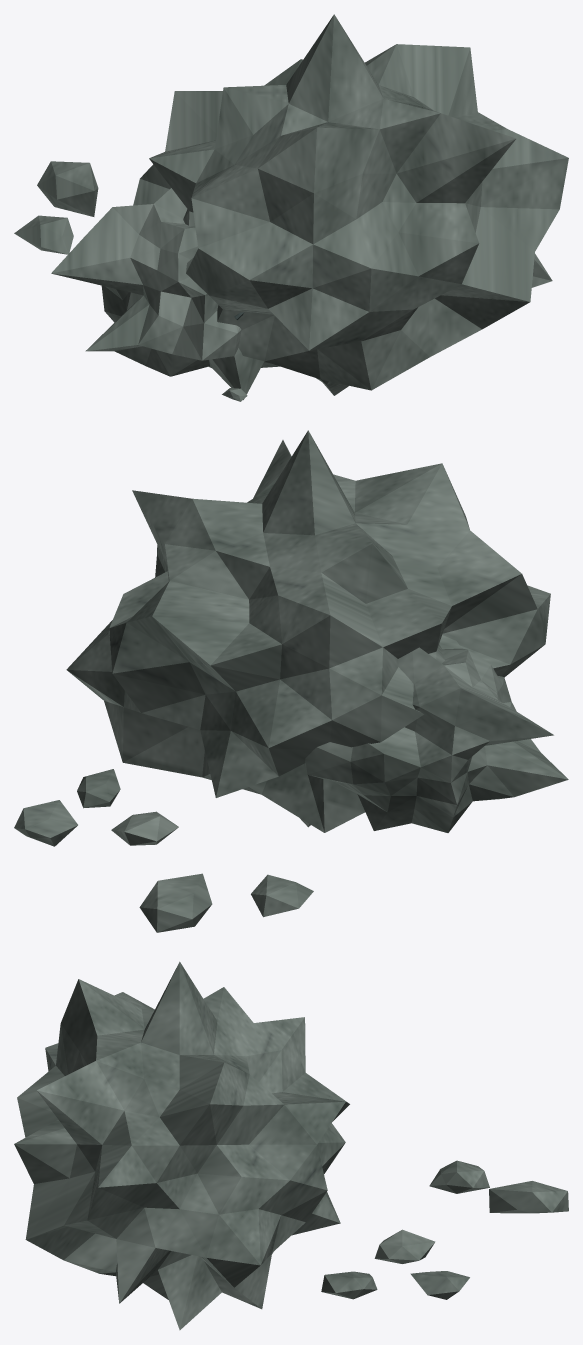
Rendered from 0009_boulder_09.glb.
3 renders of one model, top to bottom at view 1: azimuth 30°, elevation 25°; view 2: azimuth 150°, elevation 25°; view 3: azimuth 270°, elevation 25°, orthographic. The views are drawn at different scales.
Visible parts, largest first — view 1: stone; view 2: stone; view 3: stone.
Part boxes in pixels (x1=…): stone: x1=14, y1=14, x2=568, y2=401; stone: x1=14, y1=430, x2=568, y2=932; stone: x1=14, y1=961, x2=568, y2=1330.
Bounding box in the file's own units: 2.54 × 2.06 × 2.99.
Materials: 2 (2 with a texture image).
